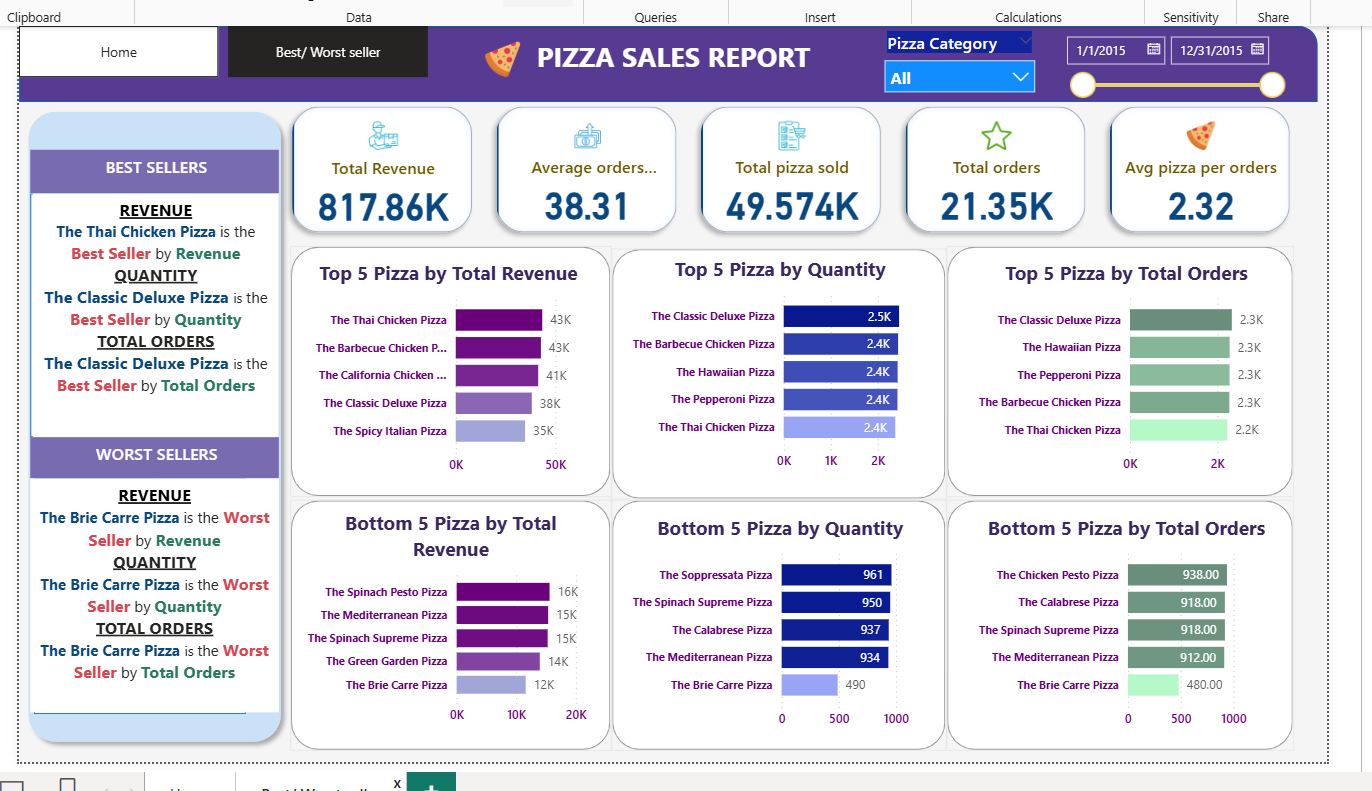

Layout of this report page (visuals, bound fields, positions):
{"tool":"powerbi","page":{"name":"Best/ Worst seller","canvas":[1280,720],"ordinal":1},"visuals":[{"type":"cardVisual","fields":{"Data":["pizza_sales.Total Revenue","pizza_sales.Average orders value","pizza_sales.Total pizza sold","pizza_sales.Total orders","pizza_sales.Avg pizza per orders"]},"box":[254.3,66,1005.2,149.2],"z":0},{"type":"shape","box":[0,0,1270.5,74.6],"z":1000},{"type":"textbox","box":[454.2,5.6,373.6,52.8],"z":2000},{"type":"image","box":[316.7,9.7,312.5,45.8],"z":3000},{"type":"shape","box":[265.4,215.2,314.3,245.8],"z":4000},{"type":"shape","box":[0,74.6,265.4,634.7],"z":5000},{"type":"textbox","box":[11,121.1,243.3,42.8],"z":6000},{"type":"shape","box":[11,163.9,243.3,238.5],"z":7000},{"type":"textbox","box":[13.5,163.9,240.9,238.5],"z":8000},{"type":"textbox","box":[11,402.3,243.3,40.4],"z":9000},{"type":"shape","box":[15.1,443.2,207.2,230.5],"z":10000},{"type":"pageNavigator","box":[0,0,400,50],"z":11000},{"type":"slicer","fields":{"Values":["pizza_sales.pizza_category"]},"box":[836.4,0,167.5,64.8],"z":12000},{"type":"slicer","fields":{"Values":["pizza_sales.order_date"]},"box":[1012.5,0,234.8,74.6],"z":13000},{"type":"shape","box":[579.6,217.7,327.7,245.8],"z":14000},{"type":"shape","box":[907.3,215.2,339.9,245.8],"z":15000},{"type":"shape","box":[265.4,463.5,314.3,245.8],"z":16000},{"type":"shape","box":[579.6,463.5,327.7,245.8],"z":17000},{"type":"shape","box":[907.3,463.5,339.9,245.8],"z":18000},{"type":"barChart","title":"Bottom 5 Pizza by Total Revenue","fields":{"Category":["pizza_sales.pizza_name"],"Y":["pizza_sales.Total Revenue"]},"box":[276.4,473.2,292.3,218.9],"z":19000},{"type":"barChart","title":"Top 5 Pizza by Total Revenue","fields":{"Category":["pizza_sales.pizza_name"],"Y":["pizza_sales.Total Revenue"]},"box":[271.5,228.7,297.1,218.9],"z":20000},{"type":"barChart","title":"Top 5 Pizza by Quantity","fields":{"Category":["pizza_sales.pizza_name"],"Y":["Sum(pizza_sales.quantity)"]},"box":[594.3,225,300.8,218.9],"z":21000},{"type":"barChart","title":"Bottom 5 Pizza by Quantity","fields":{"Category":["pizza_sales.pizza_name"],"Y":["Sum(pizza_sales.quantity)"]},"box":[594.3,478.1,300.8,217.7],"z":22000},{"type":"barChart","title":"Top 5 Pizza by Total Orders","fields":{"Category":["pizza_sales.pizza_name"],"Y":["pizza_sales.Total orders"]},"box":[933,228.7,300.8,217.7],"z":23000},{"type":"barChart","title":"Bottom 5 Pizza by Total Orders","fields":{"Category":["pizza_sales.pizza_name"],"Y":["pizza_sales.Total orders"]},"box":[933,478.1,300.8,217.7],"z":24000},{"type":"textbox","box":[11,442.7,243.3,228.7],"z":25000}]}

Visuals, with their boxes on the page's 1280x720 design canvas (x1, y1, x2, y2). These are canvas units, not pixel positions in the 1372x791 screenshot, which may show the page scaled, cropped or inside an application window:
cardVisual - pizza_sales.Total Revenue x pizza_sales.Average orders value: x1=254, y1=66, x2=1260, y2=215
shape: x1=0, y1=0, x2=1270, y2=75
textbox: x1=454, y1=6, x2=828, y2=58
image: x1=317, y1=10, x2=629, y2=56
shape: x1=265, y1=215, x2=580, y2=461
shape: x1=0, y1=75, x2=265, y2=709
textbox: x1=11, y1=121, x2=254, y2=164
shape: x1=11, y1=164, x2=254, y2=402
textbox: x1=14, y1=164, x2=254, y2=402
textbox: x1=11, y1=402, x2=254, y2=443
shape: x1=15, y1=443, x2=222, y2=674
pageNavigator: x1=0, y1=0, x2=400, y2=50
slicer - pizza_sales.pizza_category: x1=836, y1=0, x2=1004, y2=65
slicer - pizza_sales.order_date: x1=1012, y1=0, x2=1247, y2=75
shape: x1=580, y1=218, x2=907, y2=464
shape: x1=907, y1=215, x2=1247, y2=461
shape: x1=265, y1=464, x2=580, y2=709
shape: x1=580, y1=464, x2=907, y2=709
shape: x1=907, y1=464, x2=1247, y2=709
"Bottom 5 Pizza by Total Revenue" barChart: x1=276, y1=473, x2=569, y2=692
"Top 5 Pizza by Total Revenue" barChart: x1=272, y1=229, x2=569, y2=448
"Top 5 Pizza by Quantity" barChart: x1=594, y1=225, x2=895, y2=444
"Bottom 5 Pizza by Quantity" barChart: x1=594, y1=478, x2=895, y2=696
"Top 5 Pizza by Total Orders" barChart: x1=933, y1=229, x2=1234, y2=446
"Bottom 5 Pizza by Total Orders" barChart: x1=933, y1=478, x2=1234, y2=696
textbox: x1=11, y1=443, x2=254, y2=671
